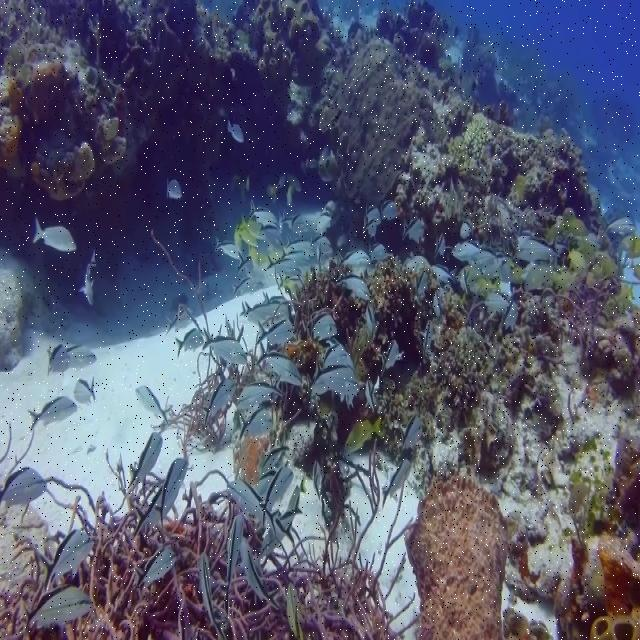fish: (39, 529, 95, 592), (28, 584, 92, 635), (227, 480, 280, 538), (240, 536, 280, 610), (260, 495, 303, 556), (155, 458, 189, 532), (199, 552, 227, 639), (220, 513, 243, 616), (258, 467, 294, 529), (127, 431, 163, 492), (256, 342, 302, 385), (134, 547, 178, 591), (27, 395, 79, 432), (240, 291, 292, 328), (0, 465, 47, 505), (202, 327, 245, 369), (381, 458, 412, 511), (315, 360, 360, 396), (203, 378, 237, 425), (133, 484, 162, 538), (279, 235, 333, 264), (33, 217, 77, 252), (344, 416, 385, 453), (236, 376, 281, 409), (136, 385, 174, 423), (235, 224, 268, 266), (239, 404, 273, 442), (524, 257, 562, 290), (517, 235, 561, 262), (254, 318, 293, 346), (216, 241, 251, 272), (336, 273, 372, 301), (260, 442, 290, 475), (248, 200, 278, 233), (468, 245, 513, 267), (286, 582, 303, 639), (323, 337, 354, 367), (176, 327, 204, 359), (78, 263, 97, 306), (495, 297, 518, 331), (401, 414, 422, 451), (166, 307, 192, 336), (311, 314, 337, 342), (485, 292, 518, 314), (252, 468, 277, 497), (286, 476, 307, 510), (231, 276, 265, 297), (73, 375, 96, 406), (381, 338, 404, 369), (265, 254, 297, 276), (603, 213, 634, 235), (418, 319, 433, 363), (470, 276, 501, 297), (456, 265, 482, 290), (341, 249, 371, 270), (240, 215, 266, 239), (451, 240, 480, 261), (432, 264, 457, 288), (559, 216, 588, 236), (279, 213, 308, 233), (46, 343, 71, 366), (404, 218, 425, 244), (66, 344, 95, 360), (366, 203, 380, 236), (369, 243, 394, 261), (226, 119, 245, 142), (365, 378, 376, 414), (381, 200, 400, 219), (312, 461, 321, 501), (167, 178, 183, 199), (415, 272, 428, 297), (432, 292, 444, 318), (434, 233, 446, 256), (460, 219, 473, 239), (364, 303, 376, 323), (288, 175, 302, 192), (628, 262, 639, 279), (287, 183, 294, 207)
